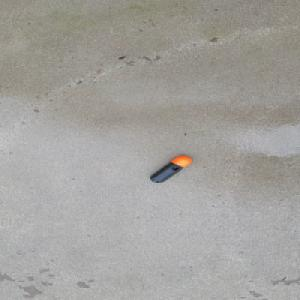PlasticPart: (149, 155, 193, 183)
